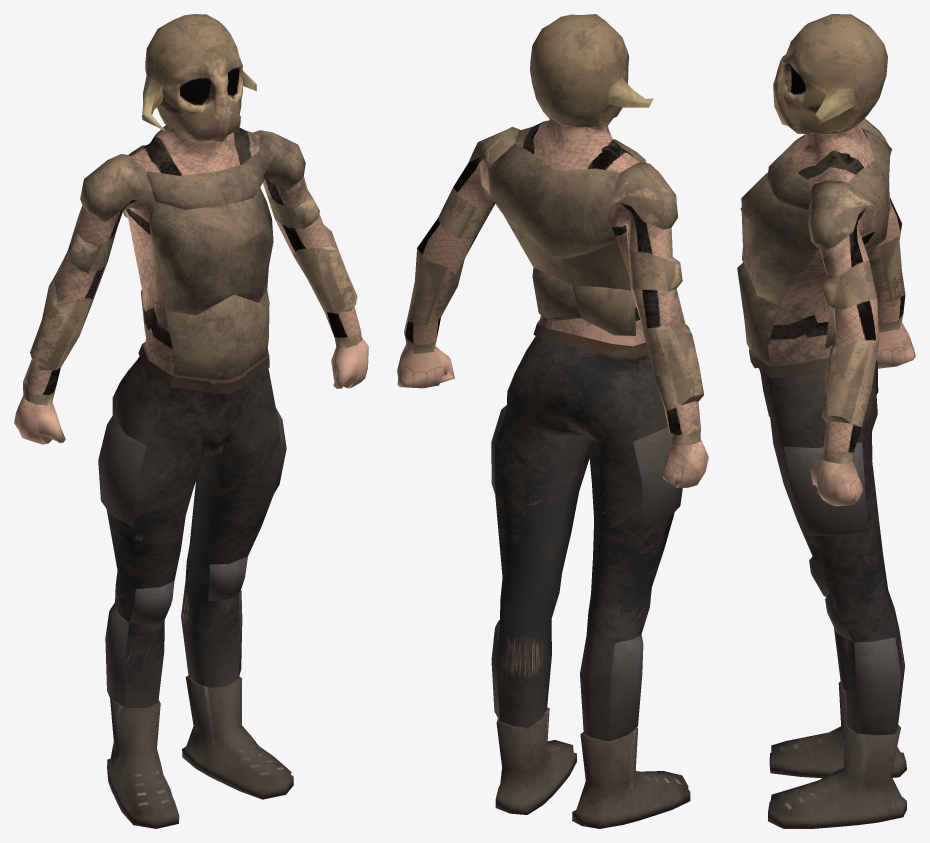
File: Anim_ataque_d1_npc1.0035.obj
The picture shows the model from 3 angles, left to right: view 1: azimuth 30°, elevation 25°; view 2: azimuth 150°, elevation 25°; view 3: azimuth 270°, elevation 25°; orthographic projection.
Parts seen in each view (by area): view 1: NPC2; view 2: NPC2; view 3: NPC2.
Part boxes in pixels (<box>): NPC2: <box>14,14,368,828</box>; NPC2: <box>397,14,708,828</box>; NPC2: <box>737,14,915,828</box>.
Bounding box in the file's own units: 4.27 × 9.7 × 2.02.
